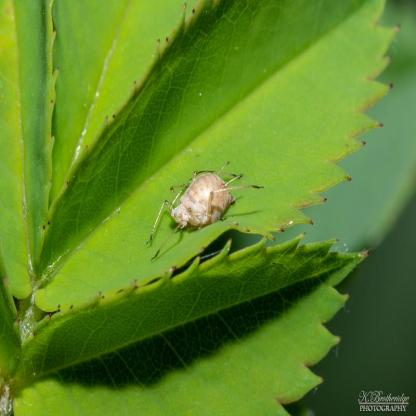aphid: (146, 153, 268, 247)
